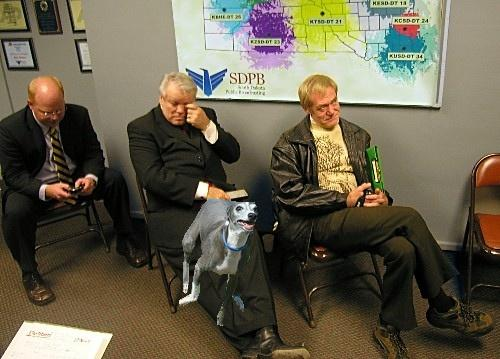tampered: (180, 199, 258, 326)
